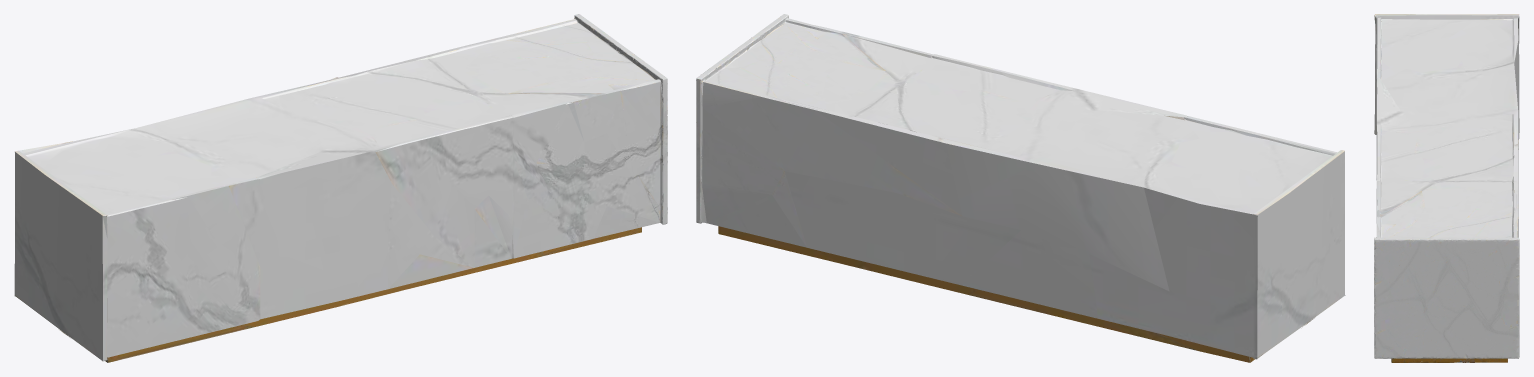
The model's file is counter-calacatta-brass.glb.
3 renders of one model, left to right at view 1: azimuth 30°, elevation 25°; view 2: azimuth 150°, elevation 25°; view 3: azimuth 270°, elevation 25°, orthographic. The views are drawn at different scales.
Visible parts, largest first — view 1: mesh_node; view 2: mesh_node; view 3: mesh_node.
Boxes of the visible parts, box(x1,y1,x2,y2) form: mesh_node: box(14, 14, 667, 362); mesh_node: box(696, 14, 1345, 362); mesh_node: box(1374, 14, 1519, 362).
Size of the model in its own units: 1.9 by 0.5101 by 0.5168.
1 material, 1 textured.
